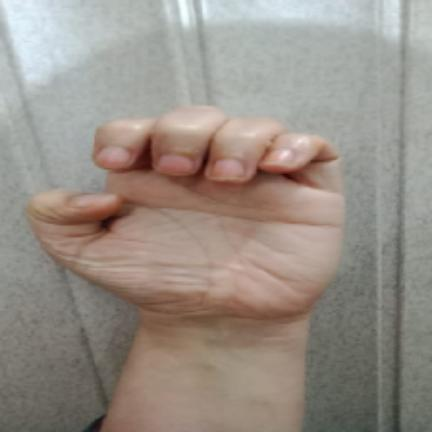Nail: (261, 148, 295, 166), (158, 155, 193, 172), (213, 159, 244, 177), (73, 194, 117, 206), (99, 147, 130, 164)
